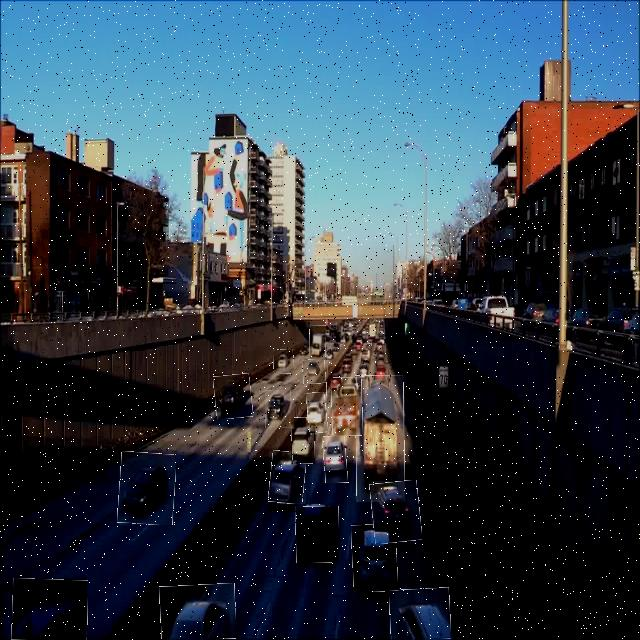Car: (11, 578, 87, 640), (159, 584, 235, 640), (118, 452, 175, 525), (352, 523, 398, 592), (389, 588, 450, 640), (371, 481, 420, 543), (296, 507, 339, 563), (269, 451, 306, 504), (214, 374, 252, 419), (323, 436, 347, 483), (291, 418, 315, 464), (265, 390, 291, 428), (307, 392, 327, 433), (303, 360, 325, 384), (327, 366, 344, 396), (274, 350, 294, 374)
Truck: (356, 375, 405, 502), (332, 378, 363, 436), (310, 325, 326, 360)
